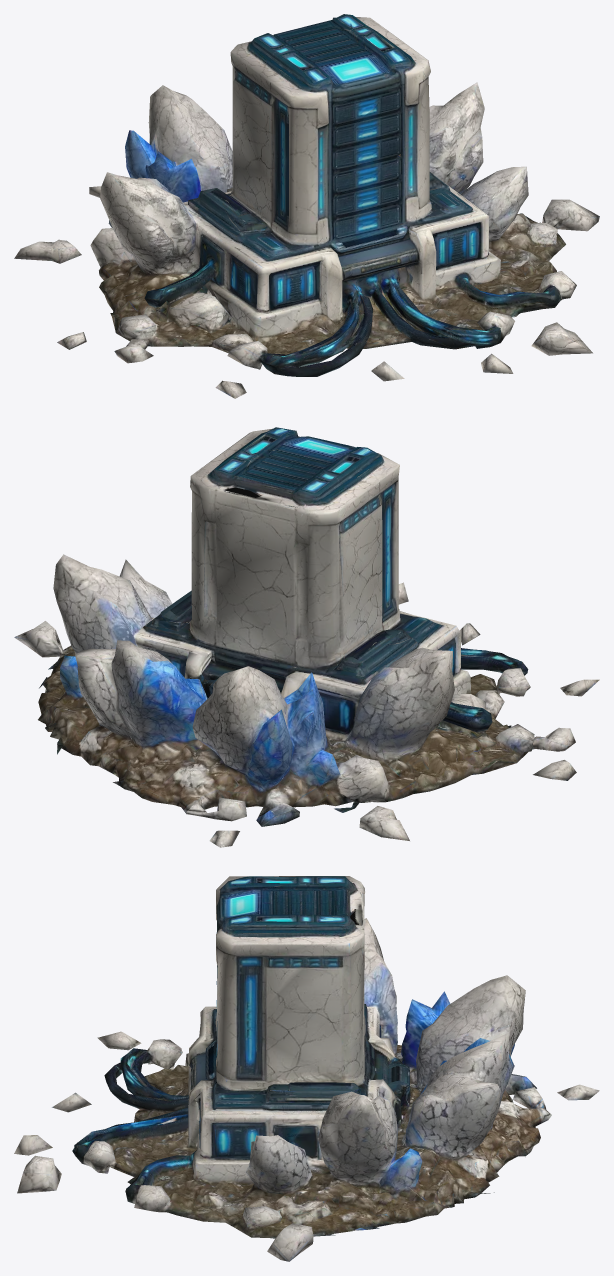
Rendered from datacenter.glb.
3 views of the same model, one above another, from view 1: azimuth 30°, elevation 25°; view 2: azimuth 150°, elevation 25°; view 3: azimuth 270°, elevation 25° (orthographic). The views are drawn at different scales.
Visible parts, largest first — view 1: Mesh1.0; view 2: Mesh1.0; view 3: Mesh1.0.
Part boxes in pixels (x1,y1,x2,y2): Mesh1.0: (14,14,599,398); Mesh1.0: (14,427,599,847); Mesh1.0: (14,876,599,1261).
Bounding box in the file's own units: 9.27 × 4 × 8.88.
1 material, 1 textured.
